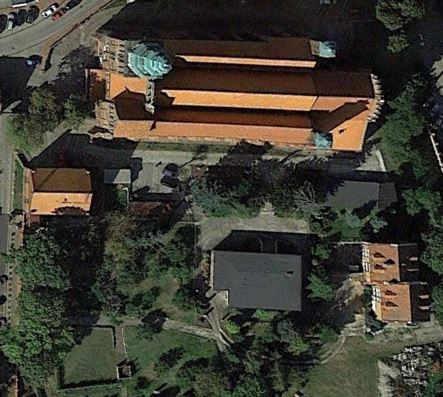block of flats: (208, 247, 305, 313), (360, 241, 431, 324), (19, 165, 93, 219)
church: (80, 23, 389, 161)
